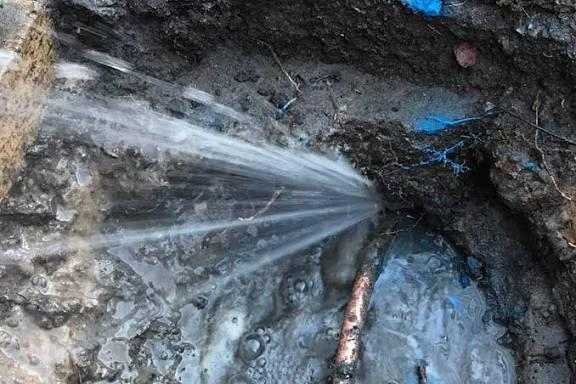pipe burst: (0, 44, 385, 316)
water accumulation: (101, 214, 526, 384)
